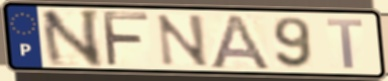9: (273, 15, 315, 71)
A: (207, 12, 274, 71)
F: (99, 9, 152, 68)
N: (38, 8, 105, 68), (154, 13, 212, 69)
T: (323, 17, 366, 71)
